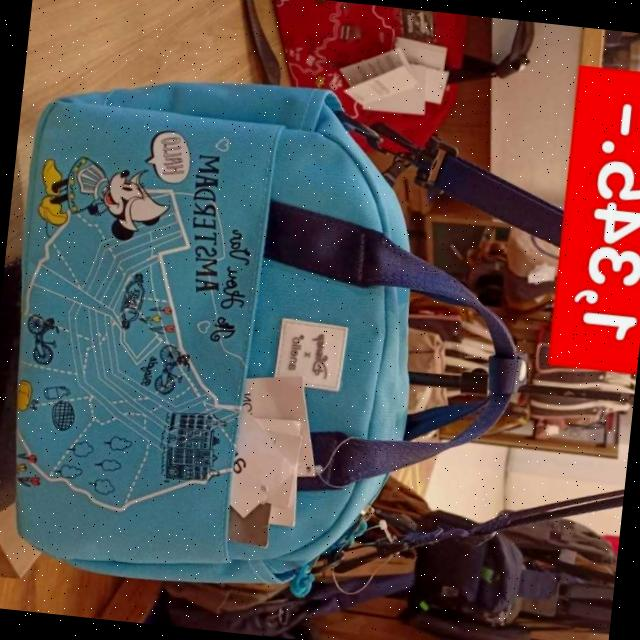handbag: (0, 63, 451, 608)
